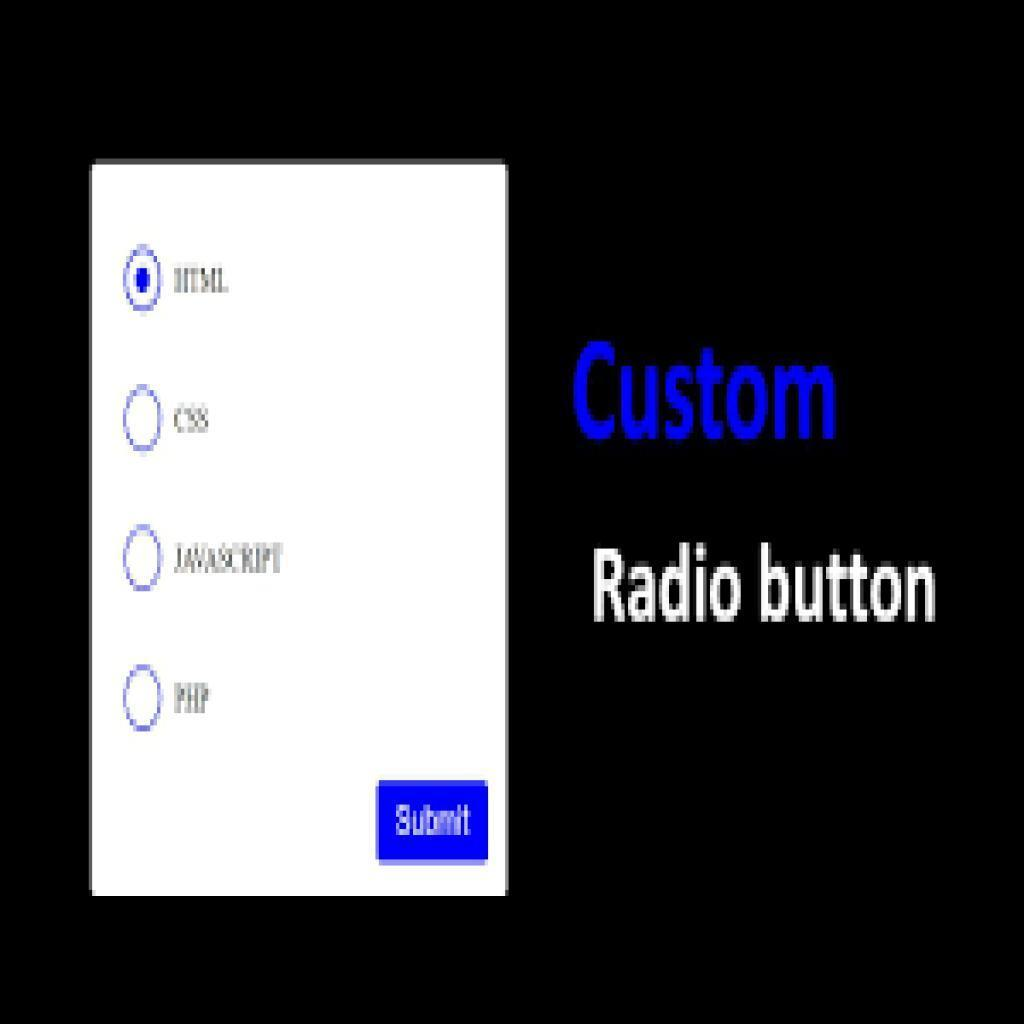button: (375, 780, 491, 868)
label: (173, 540, 287, 581), (170, 263, 235, 298), (169, 401, 215, 438)
radio: (122, 663, 167, 737), (122, 384, 165, 458), (123, 244, 165, 318), (123, 523, 165, 594)
